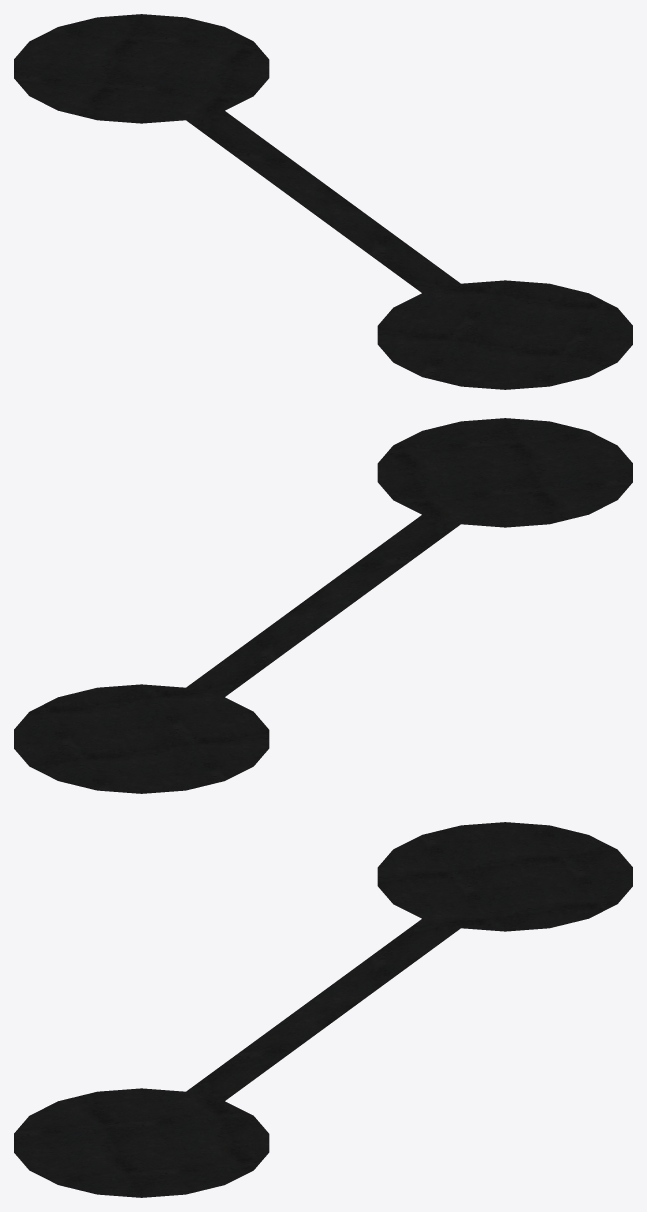
Rendered from Base_Floor.DAE.
3 views of the same model, one above another, from view 1: azimuth 30°, elevation 25°; view 2: azimuth 150°, elevation 25°; view 3: azimuth 330°, elevation 25° (orthographic).
Parts seen in each view (by area): view 1: Object001; view 2: Object001; view 3: Object001.
Boxes of the visible parts, x1,y1,x2,y2 form: Object001: (14,14,632,389); Object001: (14,418,632,793); Object001: (14,822,632,1197).
Size of the model in its own units: 0.3643 by 0 by 1.38.
